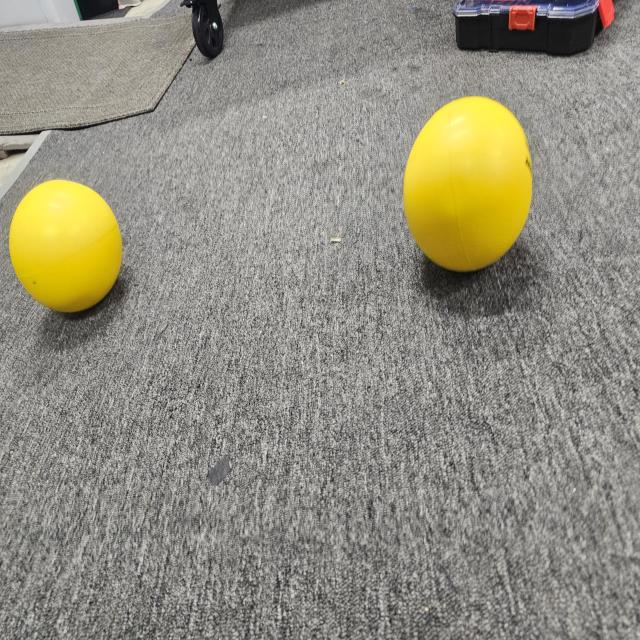Fuel: (398, 90, 542, 288), (6, 171, 129, 322)
